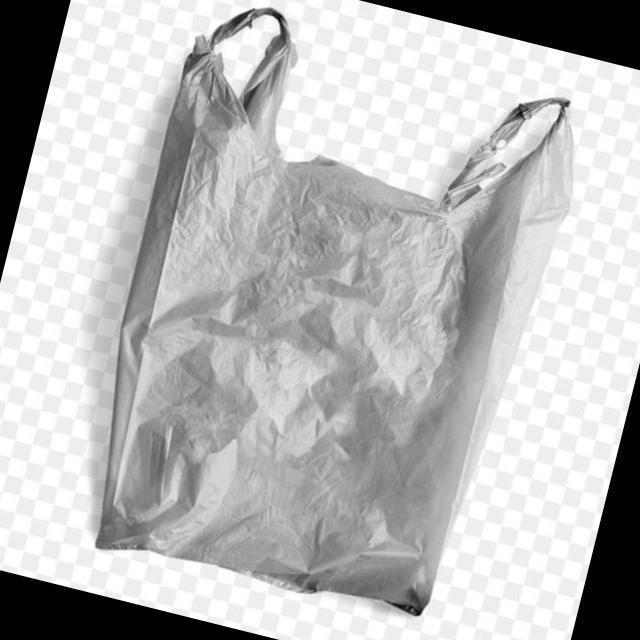KantongPlastik: (92, 6, 574, 617)
